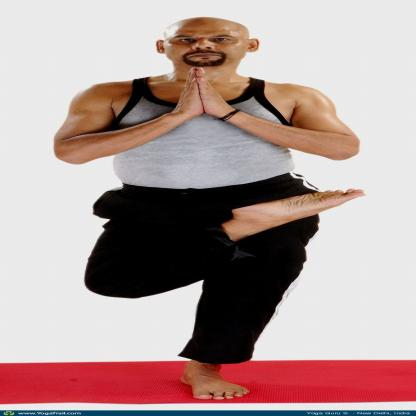tree: (38, 11, 384, 402)
